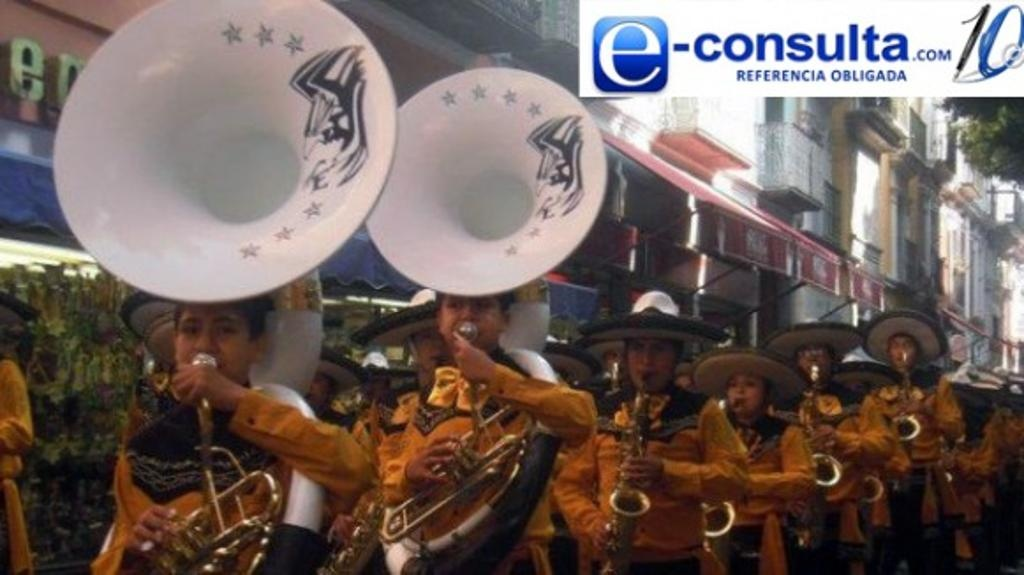human_face: (177, 305, 249, 387), (438, 288, 498, 352), (629, 333, 673, 393), (728, 371, 764, 417), (415, 328, 453, 366), (798, 345, 830, 381), (299, 370, 329, 408), (889, 337, 915, 369), (674, 376, 696, 398)
